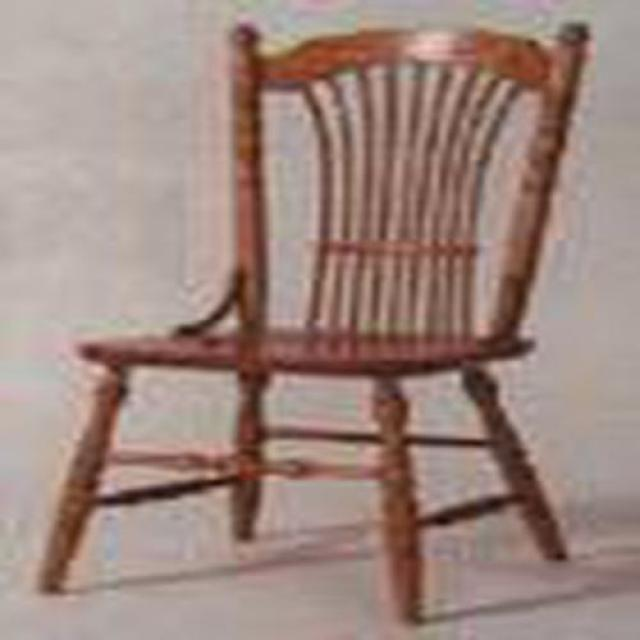chair: (40, 20, 595, 628)
